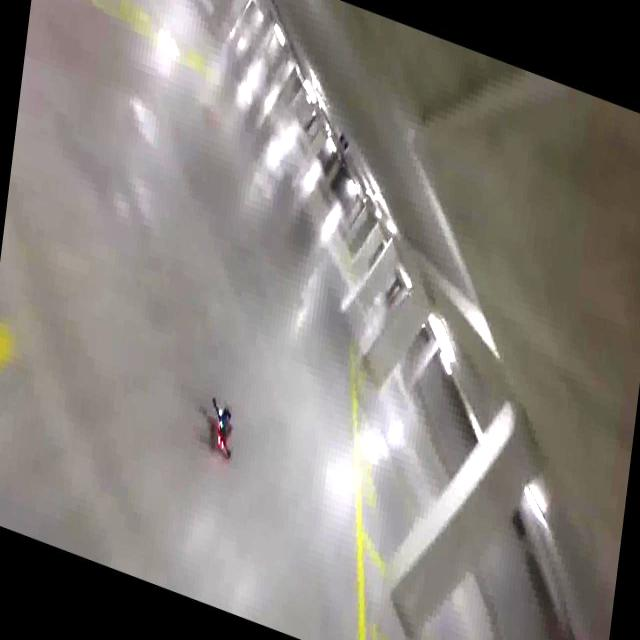drone: (206, 388, 245, 465)
